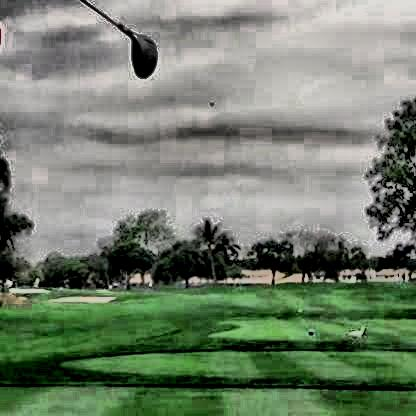golfball: (206, 98, 213, 105)
